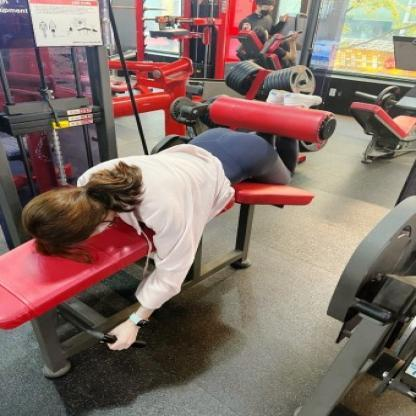reg curl machine: (0, 0, 339, 377)
